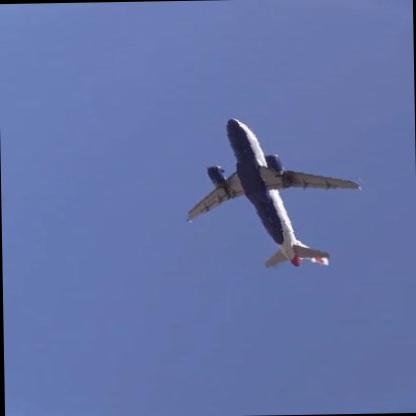plane: (181, 113, 366, 274)
